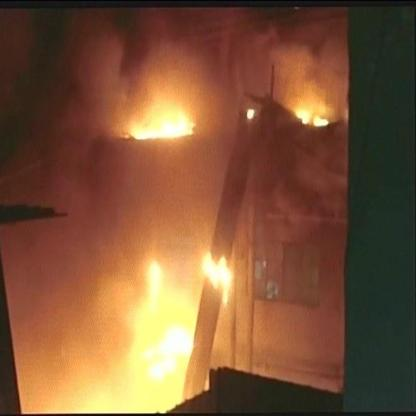fire: (120, 98, 201, 152), (139, 320, 196, 388), (199, 246, 238, 307), (135, 252, 166, 325), (290, 96, 331, 132)
